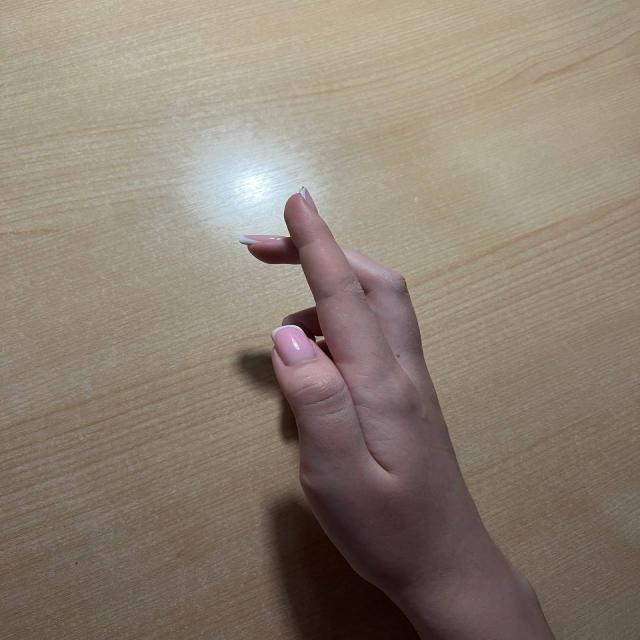b: (213, 183, 464, 510)
